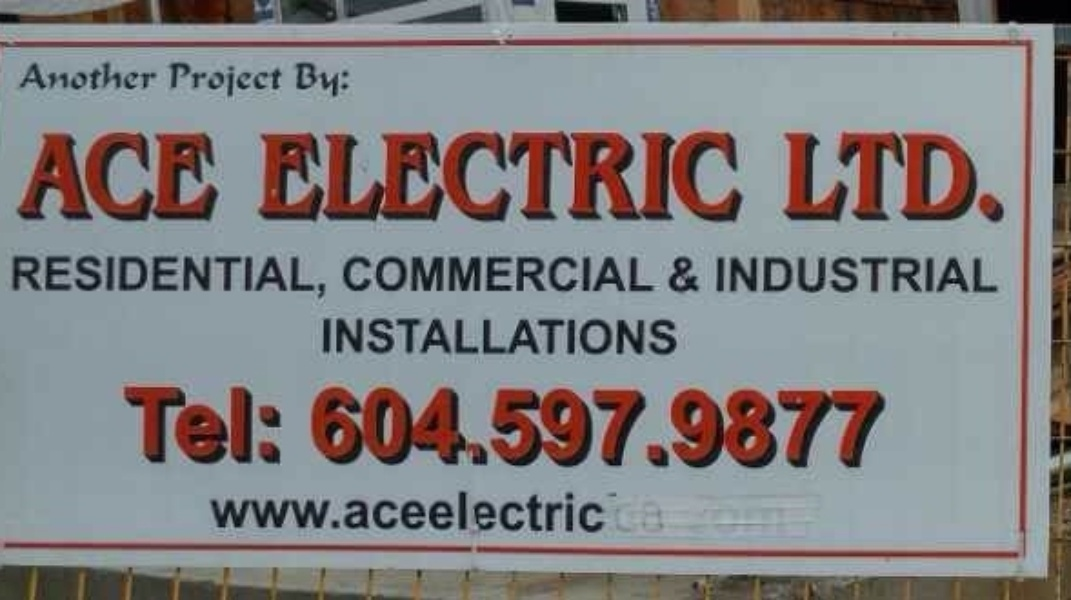text: (33, 128, 48, 224), (49, 128, 64, 224), (65, 128, 80, 224), (81, 128, 96, 224), (97, 128, 112, 224), (113, 128, 128, 224), (129, 128, 144, 224), (145, 128, 160, 224), (161, 128, 176, 224), (177, 128, 192, 224), (193, 128, 208, 224), (257, 128, 272, 224), (273, 128, 288, 224), (289, 128, 304, 224), (305, 128, 320, 224), (321, 128, 336, 224), (337, 128, 352, 224), (353, 128, 368, 224), (369, 128, 384, 224), (385, 128, 400, 224), (401, 128, 416, 224), (417, 128, 432, 224), (433, 128, 448, 224), (449, 128, 464, 224), (465, 128, 480, 224), (481, 128, 496, 224), (497, 128, 512, 224), (513, 128, 528, 224), (529, 128, 544, 224), (545, 128, 560, 224), (561, 128, 576, 224), (577, 128, 592, 224), (593, 128, 608, 224), (609, 128, 624, 224), (625, 128, 640, 224), (641, 128, 656, 224), (657, 128, 672, 224), (673, 128, 688, 224), (689, 128, 704, 224), (705, 128, 720, 224), (721, 128, 736, 224), (785, 130, 800, 224), (801, 130, 816, 224), (817, 130, 832, 224), (833, 130, 848, 224), (849, 130, 864, 224), (865, 130, 880, 224), (881, 130, 896, 224), (897, 130, 912, 224), (913, 130, 928, 224), (929, 130, 944, 224), (945, 130, 960, 224), (961, 130, 976, 224), (977, 130, 992, 224), (129, 384, 144, 468), (145, 384, 160, 468), (161, 384, 176, 468), (177, 384, 192, 468), (193, 384, 208, 468), (209, 384, 224, 468), (225, 384, 240, 468), (241, 384, 256, 468), (257, 384, 272, 468), (321, 386, 336, 468), (337, 386, 352, 468), (353, 386, 368, 468), (369, 386, 384, 468), (385, 386, 400, 468), (401, 386, 416, 468), (417, 386, 432, 468), (433, 386, 448, 468), (449, 386, 464, 468), (465, 386, 480, 468), (481, 386, 496, 468), (497, 386, 512, 468), (513, 386, 528, 468), (529, 386, 544, 468), (545, 386, 560, 468), (561, 386, 576, 468), (577, 386, 592, 468), (593, 386, 608, 468), (609, 386, 624, 468), (625, 386, 640, 468), (641, 386, 656, 468), (657, 386, 672, 468), (673, 386, 688, 468), (689, 386, 704, 468), (705, 386, 720, 468), (721, 386, 736, 468), (737, 386, 752, 468), (753, 386, 768, 468), (769, 386, 784, 468), (785, 386, 800, 468), (801, 386, 816, 468), (817, 386, 832, 468), (833, 386, 848, 468), (849, 386, 864, 468), (865, 386, 880, 468), (993, 130, 1006, 224), (209, 128, 221, 224), (21, 128, 32, 224), (273, 384, 284, 468), (310, 386, 320, 468), (17, 253, 32, 301), (33, 253, 48, 301), (49, 253, 64, 301), (65, 253, 80, 301), (81, 253, 96, 301), (97, 253, 112, 301), (113, 253, 128, 301), (129, 253, 144, 301), (145, 253, 160, 301), (161, 253, 176, 301), (177, 253, 192, 301), (193, 253, 208, 301), (209, 253, 224, 301), (225, 253, 240, 301), (241, 253, 256, 301), (257, 253, 272, 301), (273, 253, 288, 301), (289, 253, 304, 301), (305, 253, 320, 301), (321, 311, 336, 359), (337, 311, 352, 359), (353, 311, 368, 359), (369, 311, 384, 359), (385, 311, 400, 359), (401, 311, 416, 359), (417, 311, 432, 359), (433, 311, 448, 359), (449, 311, 464, 359), (465, 311, 480, 359), (481, 311, 496, 359), (497, 311, 512, 359), (513, 311, 528, 359), (529, 311, 544, 359), (545, 311, 560, 359), (561, 311, 576, 359), (577, 311, 592, 359), (593, 311, 608, 359), (609, 311, 624, 359), (625, 311, 640, 359), (641, 311, 656, 359), (657, 311, 672, 359), (225, 490, 240, 533), (241, 490, 256, 533), (257, 490, 272, 533), (273, 490, 288, 533), (289, 490, 304, 533), (305, 490, 320, 533), (321, 490, 336, 533), (337, 490, 352, 533), (353, 490, 368, 533), (369, 490, 384, 533), (385, 490, 400, 533), (401, 490, 416, 533), (417, 490, 432, 533), (433, 490, 448, 533), (449, 490, 464, 533), (465, 490, 480, 533), (481, 490, 496, 533), (497, 490, 512, 533), (513, 490, 528, 533), (529, 490, 544, 533), (545, 490, 560, 533), (561, 490, 576, 533), (577, 490, 592, 533), (593, 490, 608, 533), (337, 61, 353, 99), (210, 490, 224, 533), (353, 253, 368, 293), (369, 253, 384, 293), (385, 253, 400, 293), (401, 253, 416, 293), (417, 253, 432, 293), (433, 253, 448, 293), (449, 253, 464, 293), (465, 253, 480, 293), (481, 253, 496, 293), (497, 253, 512, 293), (513, 253, 528, 293), (529, 253, 544, 293), (545, 253, 560, 293), (561, 253, 576, 293), (577, 253, 592, 293), (593, 253, 608, 293), (609, 253, 624, 293), (625, 253, 640, 293), (673, 255, 688, 295), (689, 255, 704, 295), (625, 497, 640, 537), (641, 497, 656, 537), (177, 59, 192, 97), (193, 59, 208, 97), (209, 59, 224, 97), (225, 59, 240, 97), (241, 59, 256, 97), (257, 59, 272, 97), (305, 61, 320, 99), (321, 61, 336, 99), (721, 255, 736, 293), (737, 255, 752, 293), (753, 255, 768, 293), (769, 255, 784, 293), (785, 255, 800, 293), (801, 255, 816, 293), (817, 255, 832, 293), (833, 255, 848, 293), (849, 255, 864, 293), (865, 255, 880, 293), (881, 255, 896, 293), (897, 255, 912, 293), (913, 255, 928, 293), (929, 255, 944, 293), (945, 255, 960, 293), (961, 255, 976, 293), (977, 255, 992, 293), (689, 499, 704, 537), (705, 499, 720, 537), (721, 499, 736, 537), (737, 499, 752, 537), (753, 499, 768, 537), (769, 499, 784, 537), (641, 253, 655, 293), (339, 253, 352, 293), (122, 384, 128, 468), (737, 128, 742, 224), (33, 61, 48, 91), (49, 61, 64, 91), (65, 61, 80, 91), (81, 61, 96, 91), (97, 61, 112, 91), (113, 61, 128, 91), (129, 61, 144, 91), (321, 253, 330, 301), (145, 61, 159, 91), (273, 59, 284, 97), (293, 61, 304, 99), (881, 386, 886, 468), (19, 61, 32, 91), (615, 497, 624, 537), (664, 255, 672, 295), (168, 59, 176, 97), (993, 255, 1001, 293), (673, 311, 679, 359), (781, 130, 784, 224), (657, 497, 664, 537), (713, 255, 720, 293), (11, 253, 16, 301), (785, 499, 791, 537), (609, 490, 610, 533)
